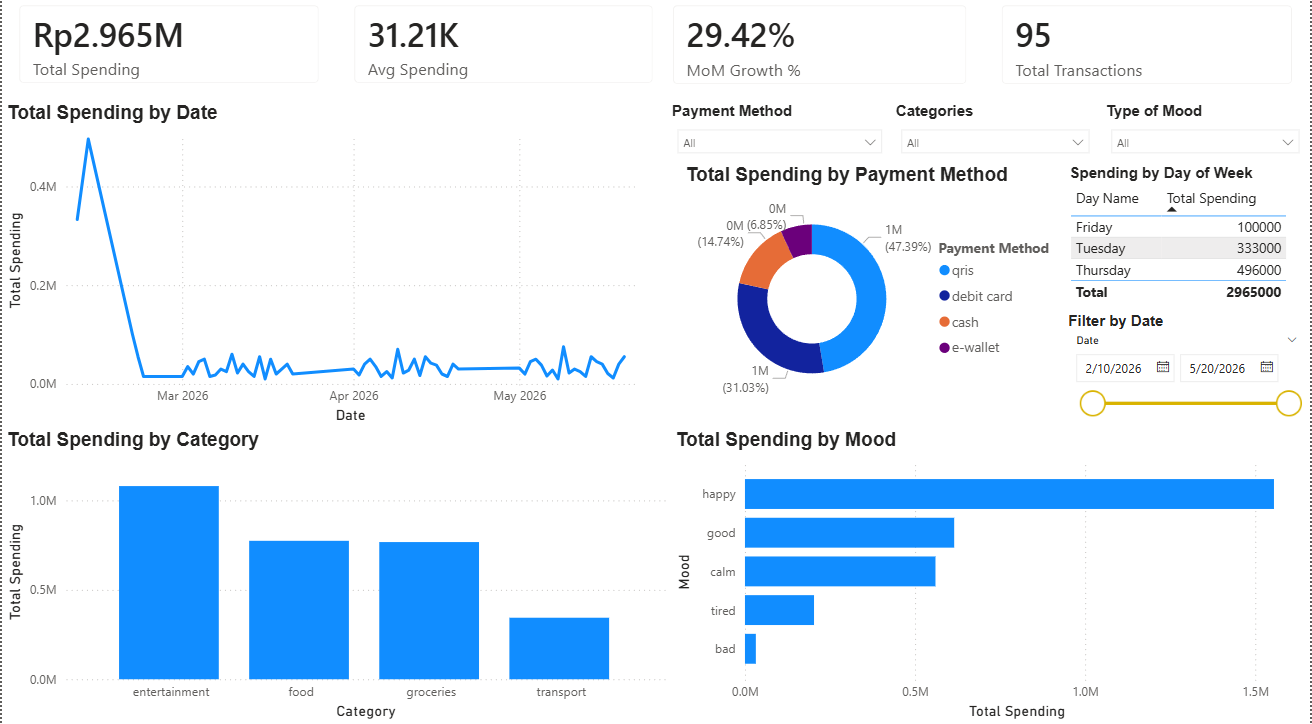

The page's visual inventory and layout, read from the dashboard file:
{"tool":"powerbi","page":{"name":"Spending Insight","canvas":[1280,720],"ordinal":0},"visuals":[{"type":"cardVisual","fields":{"Data":["DateTable & Measure.Total Spending"]},"box":[0,0,327.9,110.7],"z":0},{"type":"cardVisual","fields":{"Data":["DateTable & Measure.Avg Spending by Mood"]},"box":[327.9,0,326.8,110.7],"z":1000},{"type":"cardVisual","fields":{"Data":["DateTable & Measure.Total Transactions"]},"box":[961.2,0,318.8,111.2],"z":2000},{"type":"lineChart","fields":{"Category":["public expense.Date"],"Y":["DateTable & Measure.Total Spending"]},"box":[0,111.4,640,320],"z":3000},{"type":"columnChart","fields":{"Category":["public expense.Category"],"Y":["DateTable & Measure.Total Spending"]},"box":[0,431.4,654.3,288.6],"z":4000},{"type":"donutChart","title":"Total Spending by Payment Method","fields":{"Category":["public expense.Payment_Method"],"Y":["DateTable & Measure.Total Spending"]},"box":[664,173,375,243],"z":5000},{"type":"cardVisual","fields":{"Data":["DateTable & Measure.MoM Growth %"]},"box":[640,0,321.4,111.4],"z":6000},{"type":"barChart","fields":{"Category":["public expense.Mood"],"Y":["DateTable & Measure.Total Spending"]},"box":[654.3,431.4,624.3,288.6],"z":7000},{"type":"tableEx","title":"Spending by Day of Week","fields":{"Values":["DateTable & Measure.DayName","DateTable & Measure.Total Spending"]},"box":[1040,173,240,144],"z":8000},{"type":"slicer","title":"Filter by Date","fields":{"Values":["public expense.Date"]},"box":[1038.6,317.1,241.4,114.3],"z":9000},{"type":"slicer","title":"Categories","fields":{"Values":["public expense.Category"]},"box":[870,111.4,204.3,61.4],"z":10000},{"type":"slicer","title":"Payment Method","fields":{"Values":["public expense.Payment_Method"]},"box":[650,111.4,220,61.4],"z":11000},{"type":"slicer","title":"Type of Mood","fields":{"Values":["public expense.Mood"]},"box":[1074.3,111.4,204.3,61.4],"z":12000}]}

Visuals, with their boxes in screenshot pixels (x1, y1, x2, y2), scaled from the page's 1280x720 canvas onto the 1312x724 screenshot:
cardVisual - DateTable & Measure.Total Spending: 0,0,336,111
cardVisual - DateTable & Measure.Avg Spending by Mood: 336,0,671,111
cardVisual - DateTable & Measure.Total Transactions: 985,0,1311,112
lineChart - public expense.Date x DateTable & Measure.Total Spending: 0,112,656,434
columnChart - public expense.Category x DateTable & Measure.Total Spending: 0,434,671,723
"Total Spending by Payment Method" donutChart: 681,174,1065,418
cardVisual - DateTable & Measure.MoM Growth %: 656,0,985,112
barChart - public expense.Mood x DateTable & Measure.Total Spending: 671,434,1311,723
"Spending by Day of Week" tableEx: 1066,174,1311,319
"Filter by Date" slicer: 1065,319,1311,434
"Categories" slicer: 892,112,1101,174
"Payment Method" slicer: 666,112,892,174
"Type of Mood" slicer: 1101,112,1311,174
